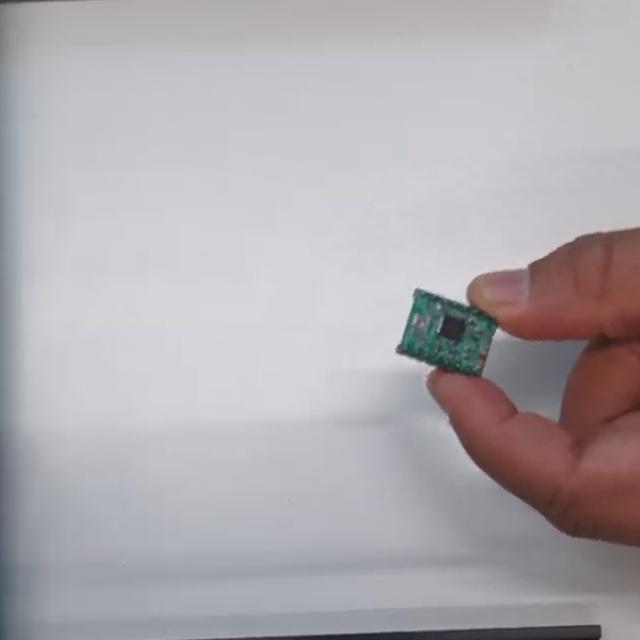Chip: (398, 289, 498, 381)
